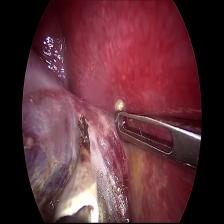Grasper: (115, 106, 206, 176)
Hook: (58, 112, 102, 223)
